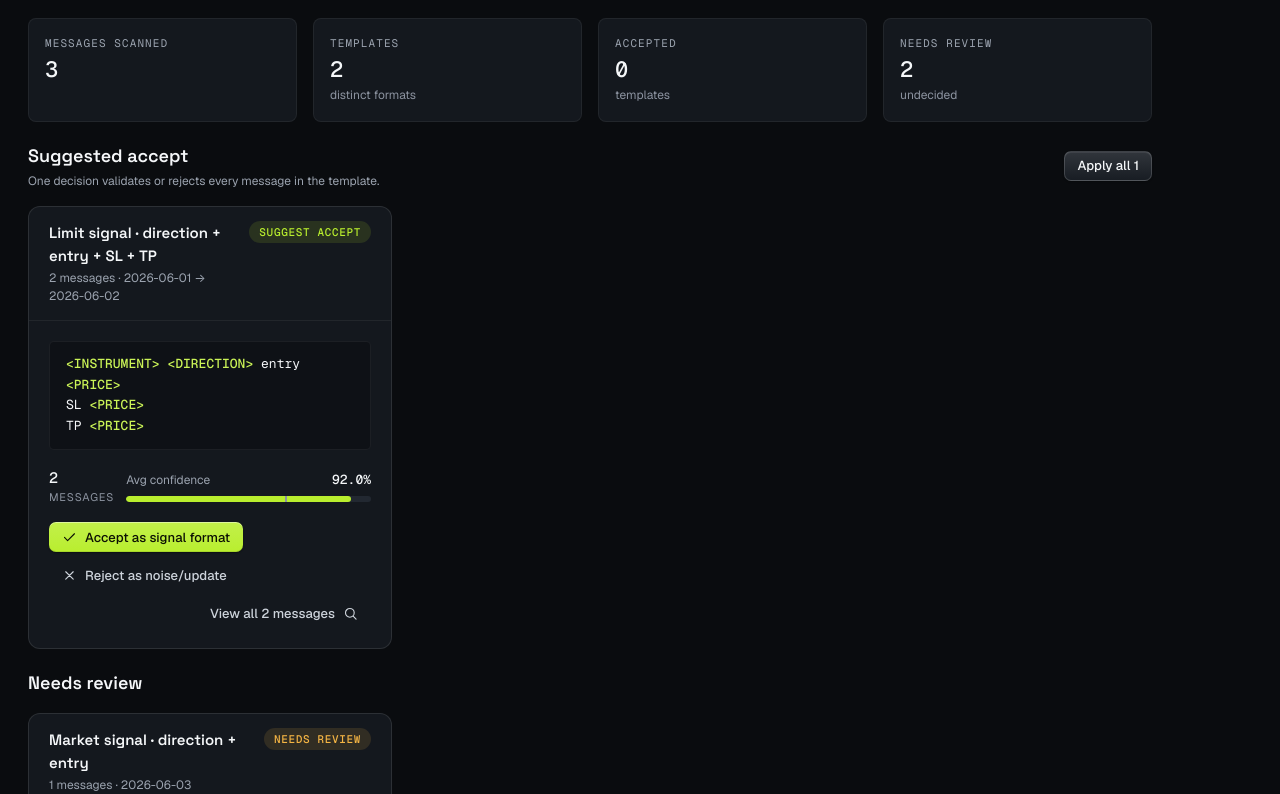
TemplateMiningPage › debounces the audit fetch instead of firing once per toggle
This screenshot has width=1280, height=794.
Expected: the text "Suggested accept" is shown, top-left (28, 144), bottom-right (188, 167)
Click the button "Accept as signal format".
click(146, 537)  # box top-left (49, 522), bottom-right (243, 552)
(page scrolled)
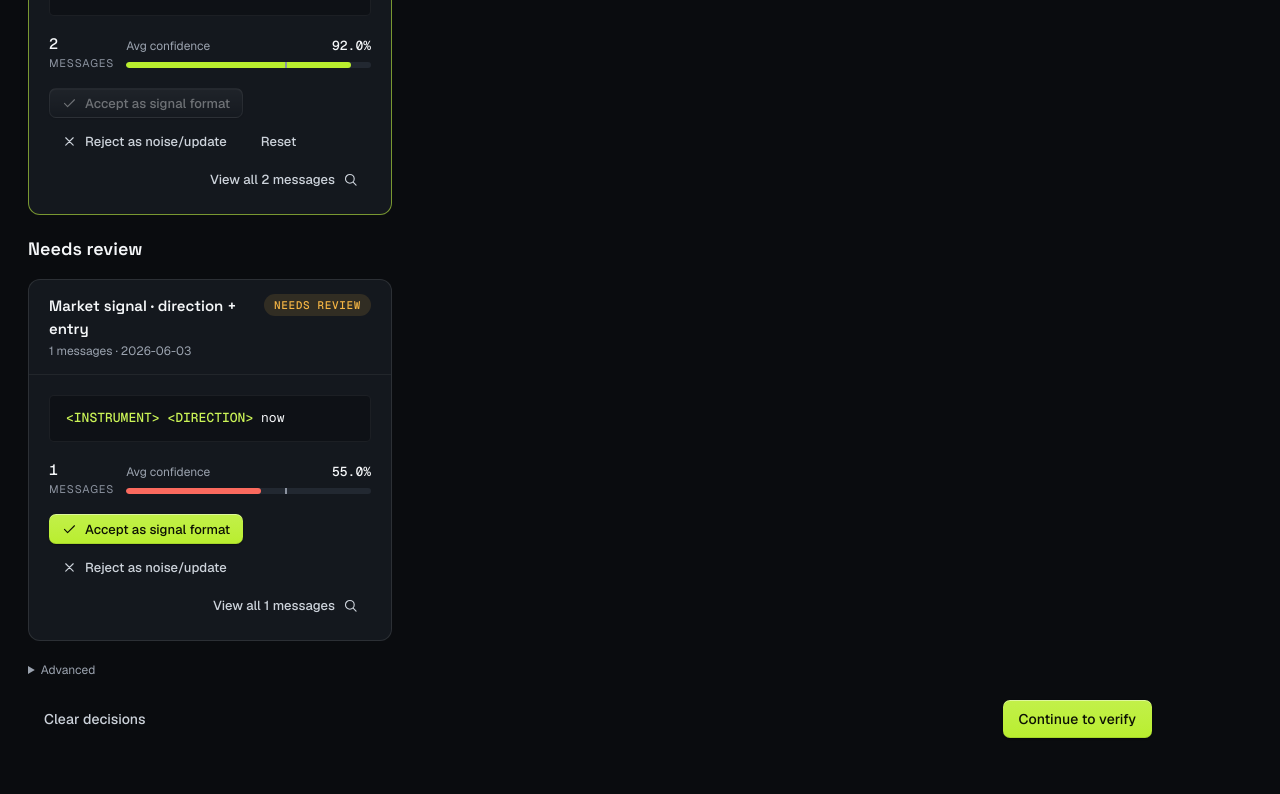
Click the button "Continue to verify".
click(1077, 719)  # box top-left (1003, 700), bottom-right (1152, 738)
(page scrolled)
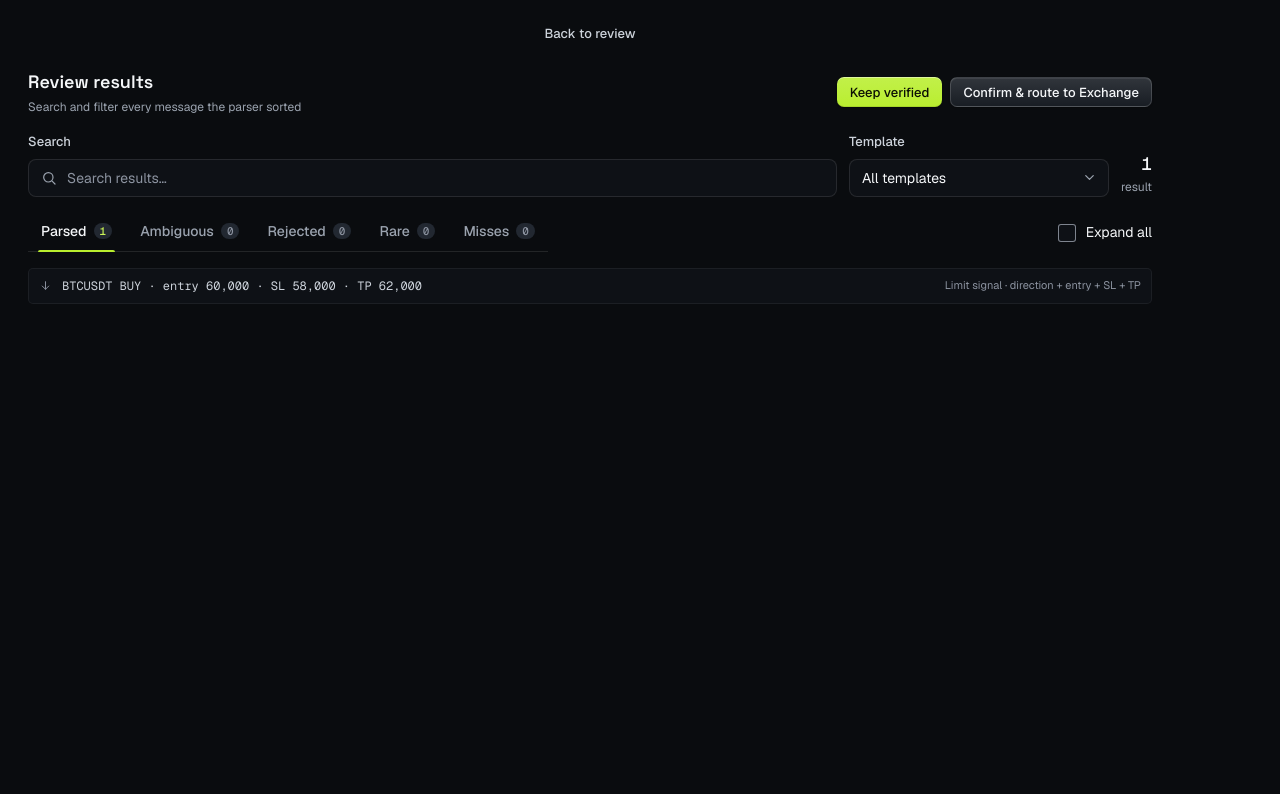
Result: the tab "Parsed 1" is shown at top-left (28, 213), bottom-right (125, 251)
